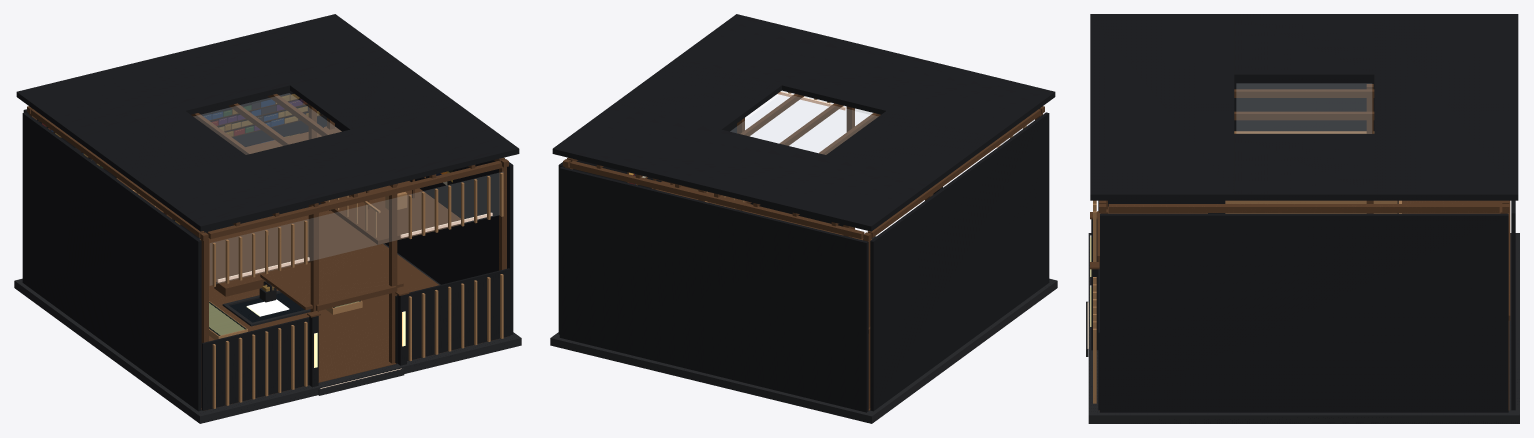
Rendered from plot.glb.
3 views of the same model, side by side, from view 1: azimuth 30°, elevation 25°; view 2: azimuth 150°, elevation 25°; view 3: azimuth 270°, elevation 25° (orthographic). The views are drawn at different scales.
Parts seen in each view (by area): view 1: structure_mesh, glass_mesh, atlas_mesh, emissive_fixtures; view 2: structure_mesh, glass_mesh; view 3: structure_mesh, glass_mesh.
Boxes of the visible parts, bbox=[...] form: structure_mesh: bbox=[14, 14, 521, 423]; glass_mesh: bbox=[194, 93, 502, 285]; atlas_mesh: bbox=[37, 93, 360, 335]; emissive_fixtures: bbox=[217, 212, 492, 388]; structure_mesh: bbox=[550, 14, 1057, 423]; glass_mesh: bbox=[731, 91, 1034, 154]; structure_mesh: bbox=[1086, 14, 1519, 423]; glass_mesh: bbox=[1237, 84, 1371, 133].
Size of the model in its own units: 9.84 by 5.75 by 9.9.
Materials: 4 (2 with a texture image).
